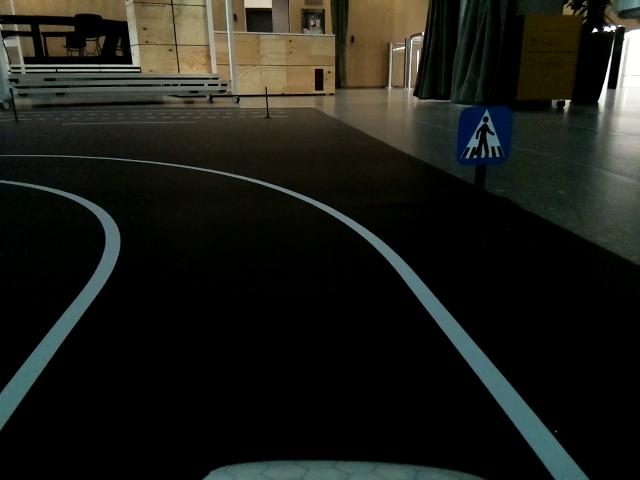pedestrians: (458, 107, 510, 165)
